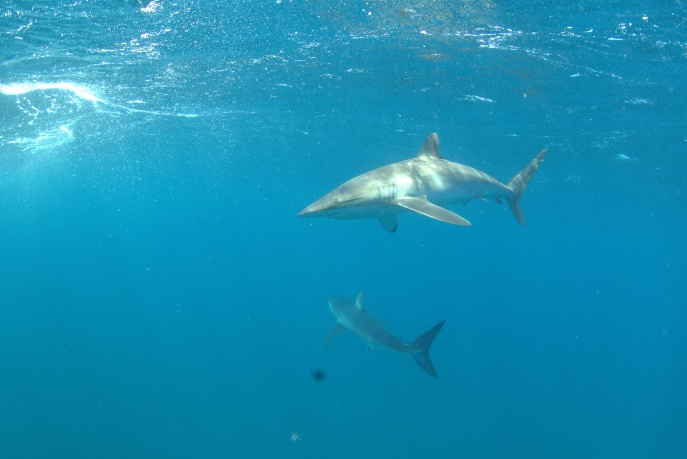Sedoso: (292, 123, 552, 246)
